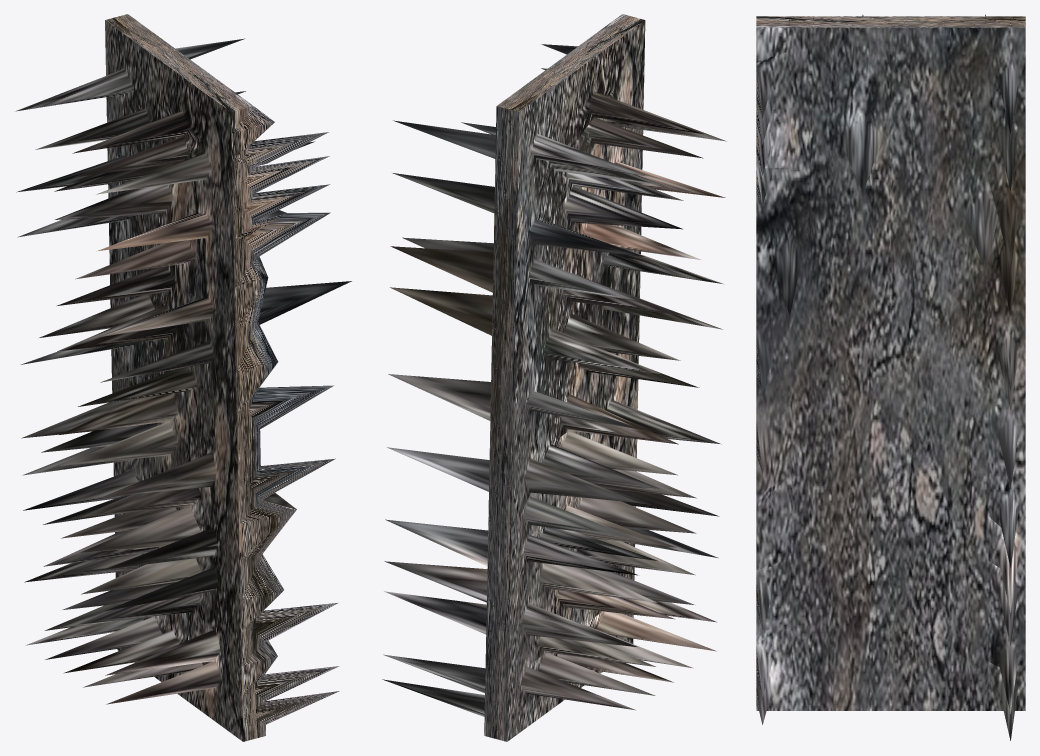
The model's file is vertSpikes.fbx.
The picture shows the model from 3 angles, left to right: view 1: azimuth 30°, elevation 25°; view 2: azimuth 150°, elevation 25°; view 3: azimuth 270°, elevation 25°; orthographic projection. The views are drawn at different scales.
Parts seen in each view (by area): view 1: polySurface191; view 2: polySurface191; view 3: polySurface191.
Boxes of the visible parts, left/top/right/bottom form: polySurface191: left=15, top=14, right=351, bottom=741; polySurface191: left=382, top=14, right=726, bottom=741; polySurface191: left=756, top=14, right=1025, bottom=740.
Bounding box in the file's own units: 104 × 248 × 89.27.
